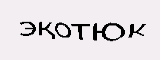Қ: (36, 20, 54, 39)
